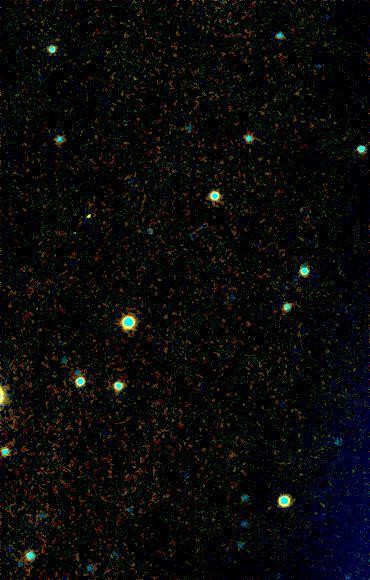star: (74, 199, 104, 229)
